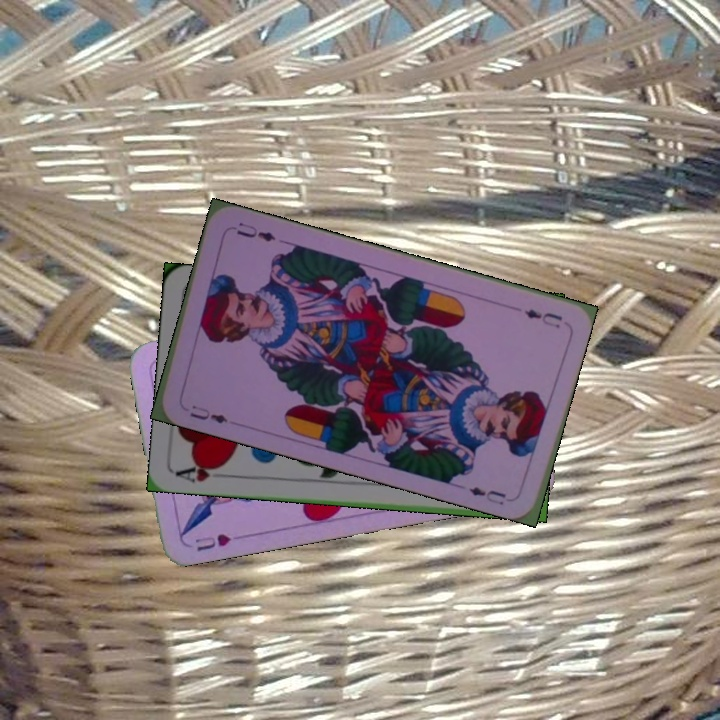EU: (186, 400, 231, 426), (520, 305, 565, 331)
HA: (173, 459, 232, 486)
HU: (191, 529, 234, 554)
